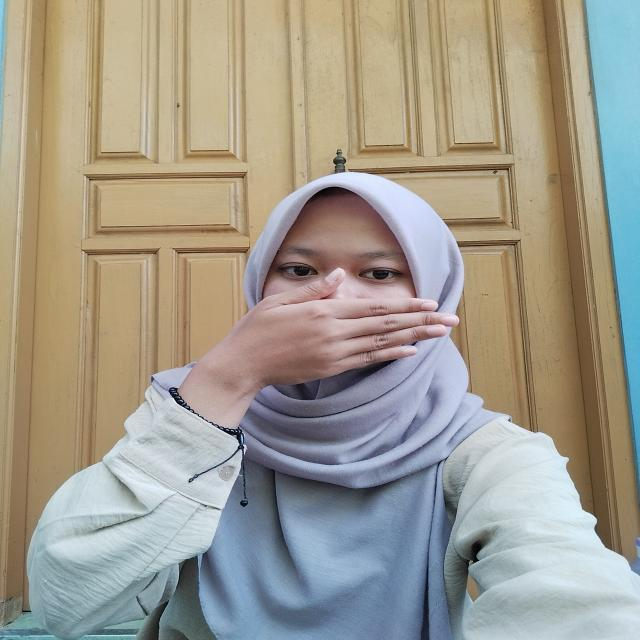buruk: (188, 259, 471, 422)
